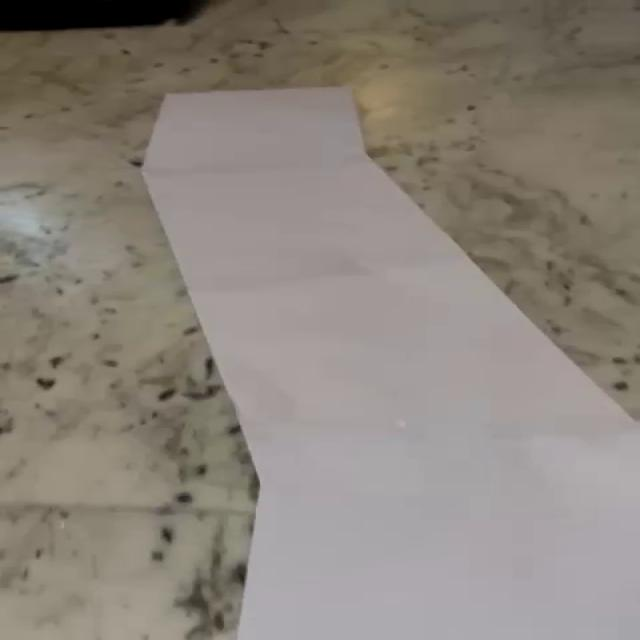road: (143, 87, 638, 640)
